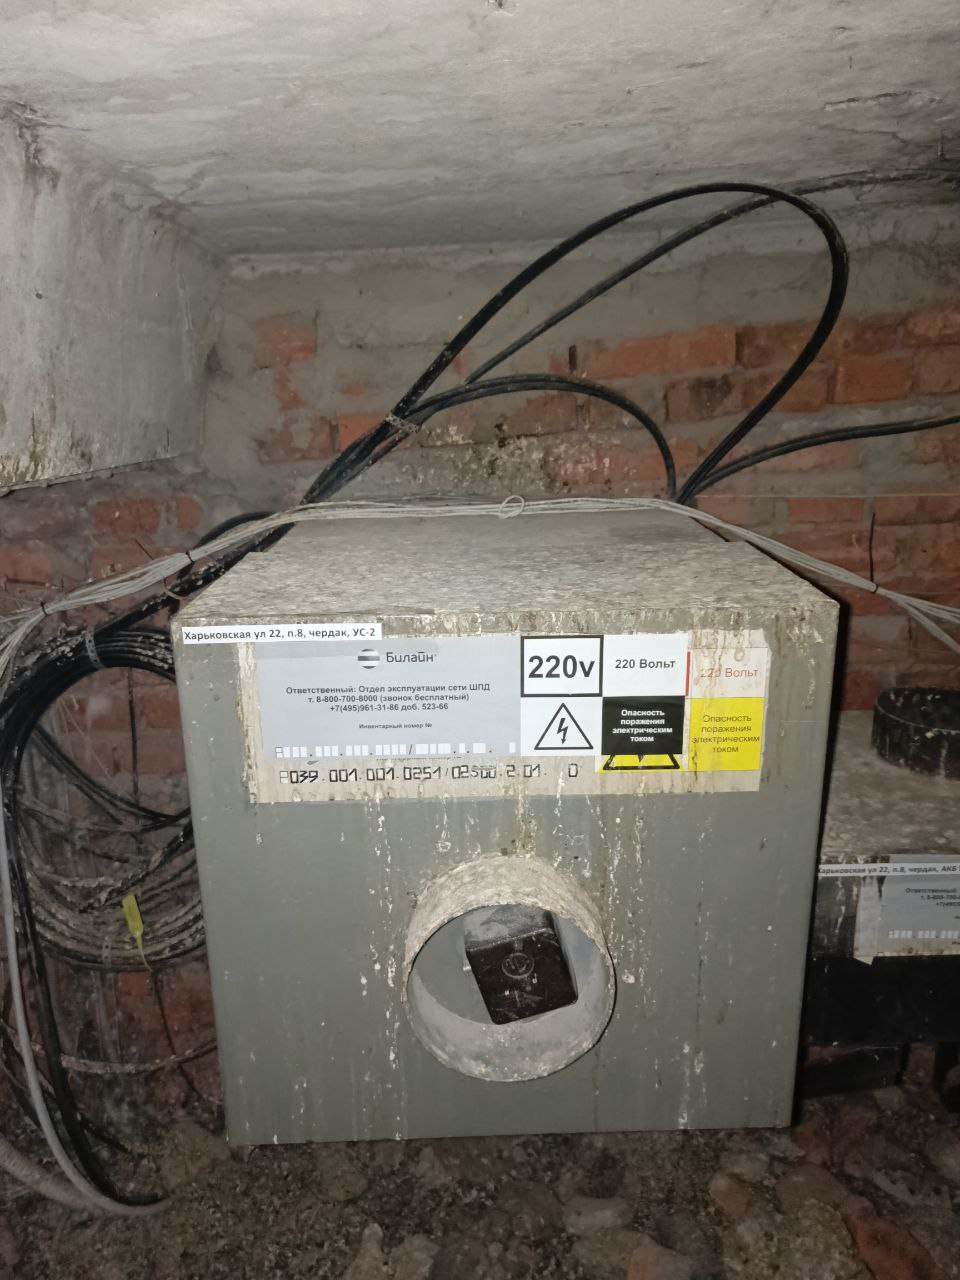shta-9: (161, 497, 848, 1157)
